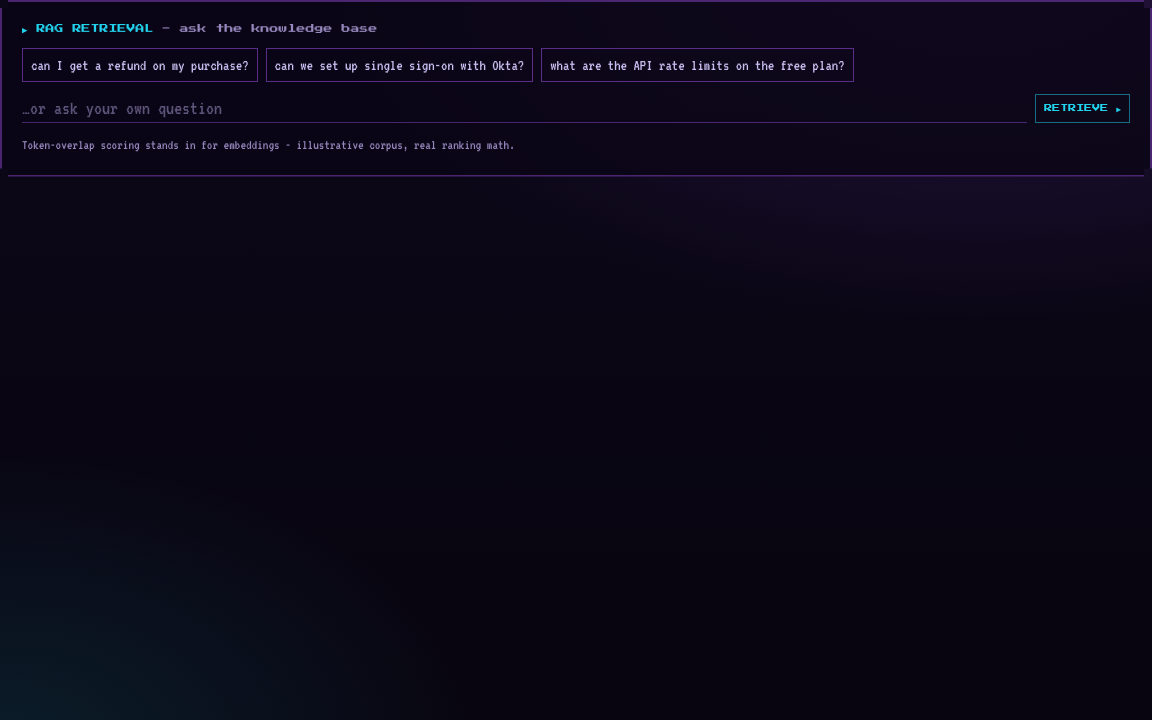
RAG demo retrieves the refund doc for a refund question
Click the button "can I get a refund on my purchase?". click: (140, 64)
box: top-left (22, 48), bottom-right (258, 82)
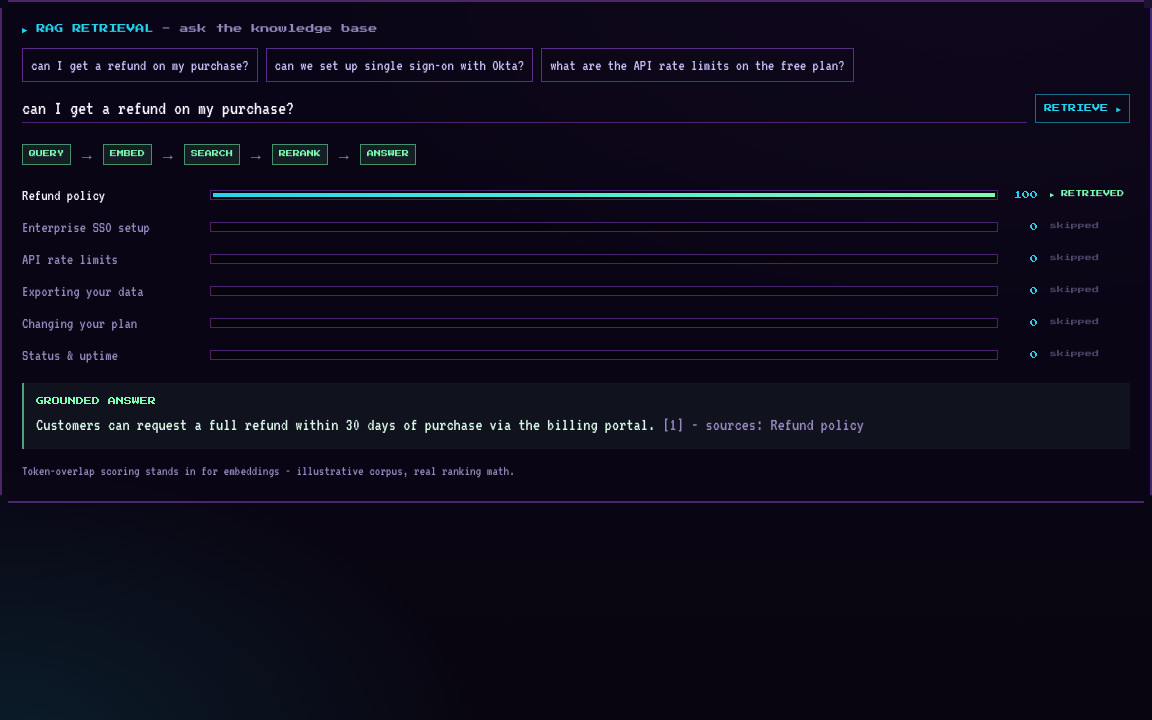
Now the text "GROUNDED ANSWER" is shown, box top-left (36, 396), bottom-right (156, 404)
Now the text "Refund policy" is shown, box top-left (22, 186), bottom-right (105, 202)
Now the text "▶ RETRIEVED" is shown, box top-left (1050, 189), bottom-right (1130, 200)
